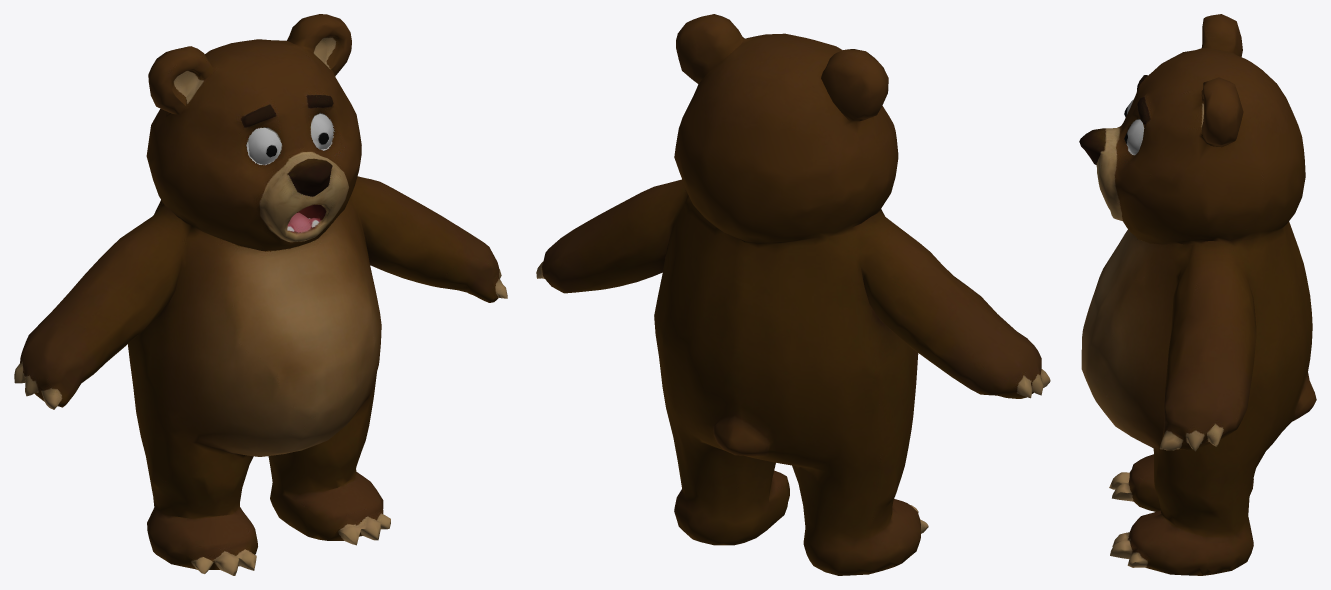
File: bear_raw.glb
3 views of the same model, side by side, from view 1: azimuth 30°, elevation 25°; view 2: azimuth 150°, elevation 25°; view 3: azimuth 270°, elevation 25° (orthographic). The views are drawn at different scales.
Visible parts, largest first — view 1: world; view 2: world; view 3: world.
Boxes of the visible parts, box(x1,y1,x2,y2) form: world: box(14, 14, 507, 575); world: box(536, 14, 1050, 575); world: box(1079, 14, 1316, 575).
Bounding box in the file's own units: 1 × 0.9939 × 0.4453.
Materials: 1 (1 with a texture image).
